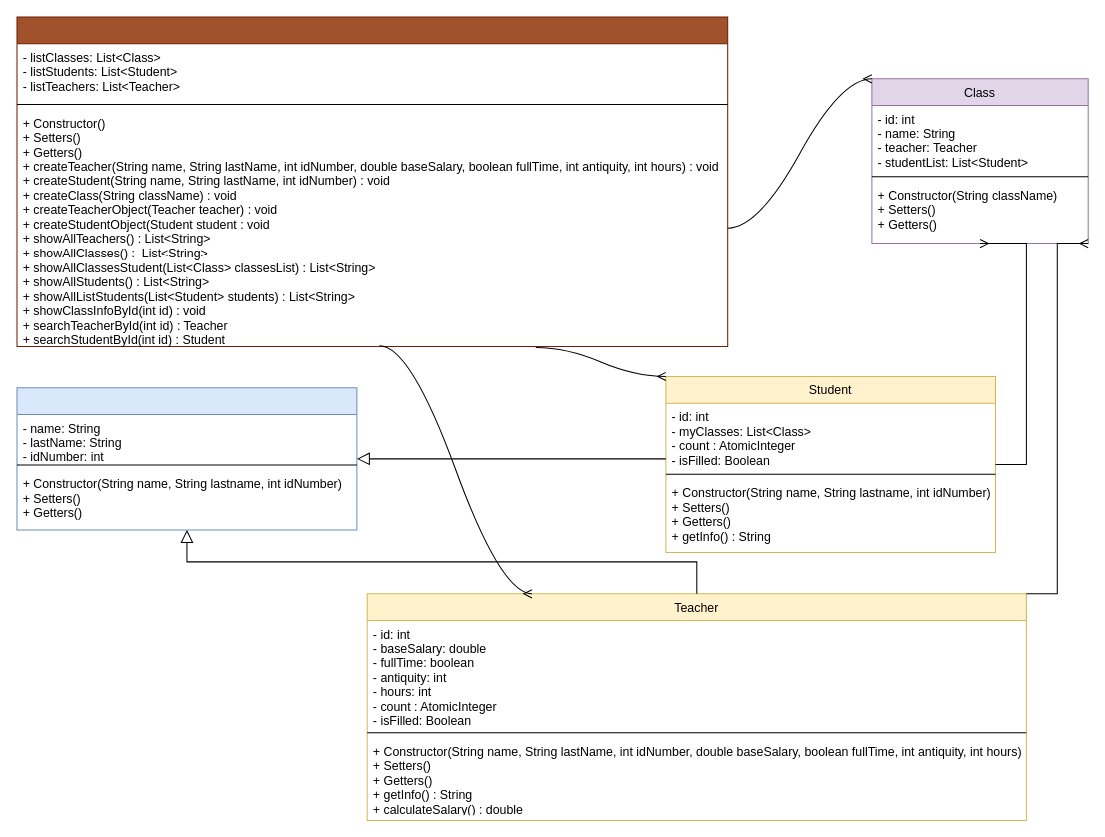
Image size: 1105x837. Some labels were removed from this diagram. Each missing label, with the box of its shape:
Person: (16, 387, 357, 530)
University: (16, 16, 728, 347)
